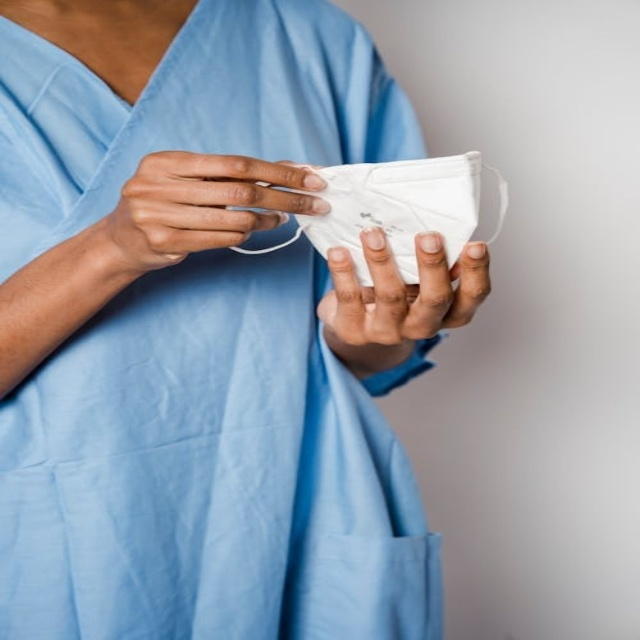Sin_guantes: (108, 148, 327, 271), (317, 224, 489, 352)
